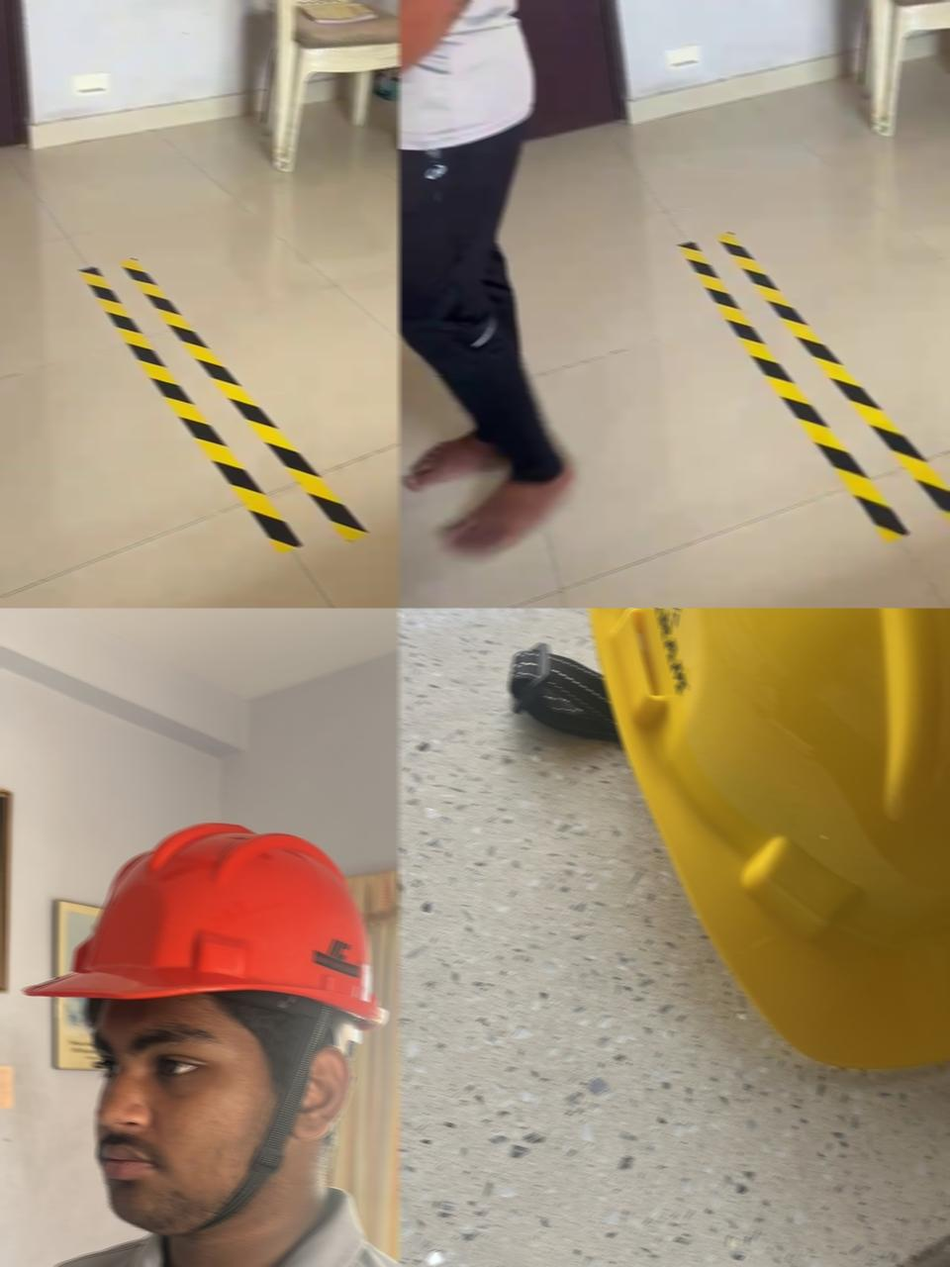BorderLine: (676, 231, 950, 545), (80, 256, 366, 555)
Helmet: (506, 608, 950, 1070), (22, 821, 387, 1235)
No_Vest: (398, 0, 534, 150)
Person: (0, 821, 399, 1267), (398, 0, 578, 559)
